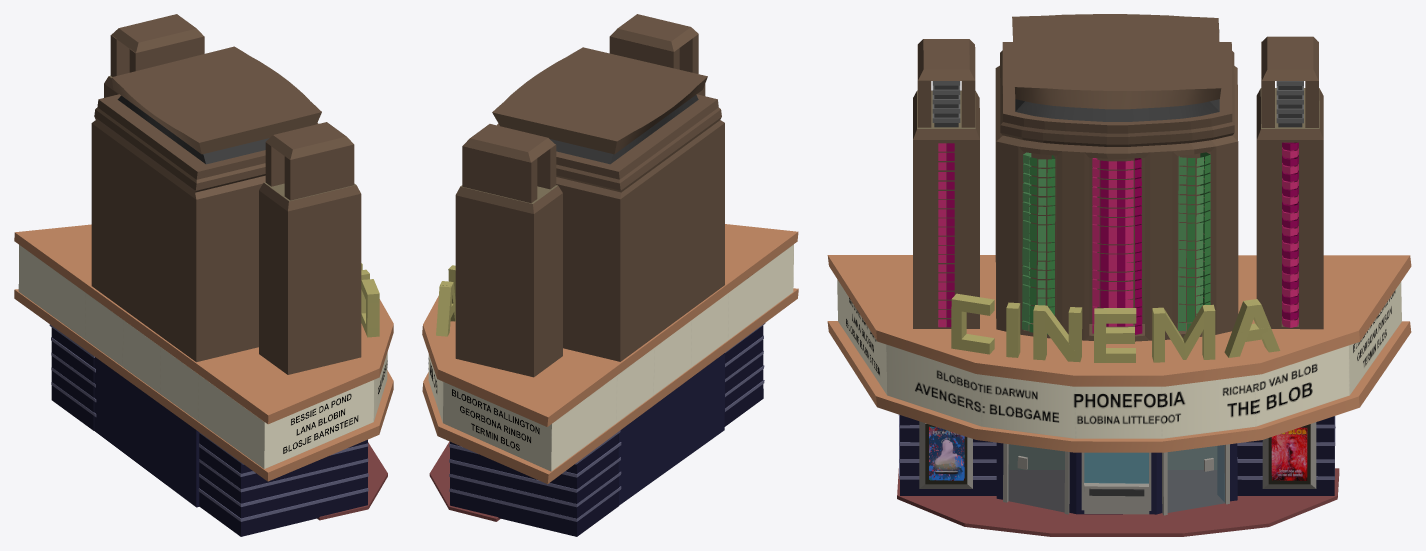
The model's file is CINEMA_fbx.fbx.
The picture shows the model from 3 angles, left to right: view 1: azimuth 30°, elevation 25°; view 2: azimuth 150°, elevation 25°; view 3: azimuth 270°, elevation 25°; orthographic projection. The views are drawn at different scales.
Visible parts, largest first — view 1: pCube75, polySurface14, pCube362, pCube327, pCube363, pCube356, pCube330, pCube364, polySurface1, pCube343, polySurface17, polySurface8 (+9 smaller); view 2: pCube75, polySurface24, pCube362, pCube327, pCube363, pCube343, pCube330, pCube364, polySurface18, pCube356, polySurface17, polySurface8 (+9 smaller); view 3: pCube75, pCube362, pCube363, pCube327, polySurface458, pCube380, polySurface14, polySurface24, pCube364, polySurface532, polySurface530, pCube330 (+23 smaller).
Boxes of the visible parts, left/top/right/bottom form: pCube75: left=91, top=94, right=318, bottom=362; polySurface14: left=259, top=183, right=361, bottom=374; pCube362: left=18, top=245, right=387, bottom=468; pCube327: left=111, top=46, right=321, bottom=154; pCube363: left=14, top=224, right=393, bottom=424; pCube356: left=199, top=433, right=367, bottom=536; pCube330: left=94, top=357, right=199, bottom=507; pCube364: left=14, top=289, right=393, bottom=481; polySurface1: left=284, top=144, right=354, bottom=200; pCube343: left=51, top=327, right=94, bottom=430; polySurface17: left=111, top=14, right=203, bottom=52; polySurface8: left=266, top=122, right=353, bottom=159; pCube75: left=497, top=94, right=724, bottom=361; polySurface24: left=455, top=186, right=562, bottom=377; pCube362: left=428, top=244, right=793, bottom=471; pCube327: left=492, top=47, right=707, bottom=154; pCube363: left=422, top=224, right=798, bottom=426; pCube343: left=450, top=434, right=618, bottom=536; pCube330: left=618, top=353, right=724, bottom=505; pCube364: left=422, top=288, right=798, bottom=484; polySurface18: left=462, top=146, right=537, bottom=203; pCube356: left=724, top=325, right=763, bottom=426; polySurface17: left=463, top=124, right=555, bottom=162; polySurface8: left=610, top=14, right=698, bottom=51; pCube75: left=995, top=42, right=1238, bottom=341; pCube362: left=837, top=279, right=1401, bottom=438; pCube363: left=827, top=255, right=1411, bottom=386; pCube327: left=1012, top=14, right=1221, bottom=109; polySurface458: left=1022, top=152, right=1210, bottom=334; pCube380: left=897, top=468, right=1339, bottom=536; polySurface14: left=913, top=90, right=979, bottom=328; polySurface24: left=1256, top=88, right=1323, bottom=329; pCube364: left=827, top=321, right=1411, bottom=452; polySurface532: left=1167, top=445, right=1224, bottom=512; polySurface530: left=1008, top=444, right=1064, bottom=512; pCube330: left=996, top=442, right=1237, bottom=514.
Bounding box in the file's own units: 3.37 × 5.55 × 6.91.
29 materials, 3 textured.
